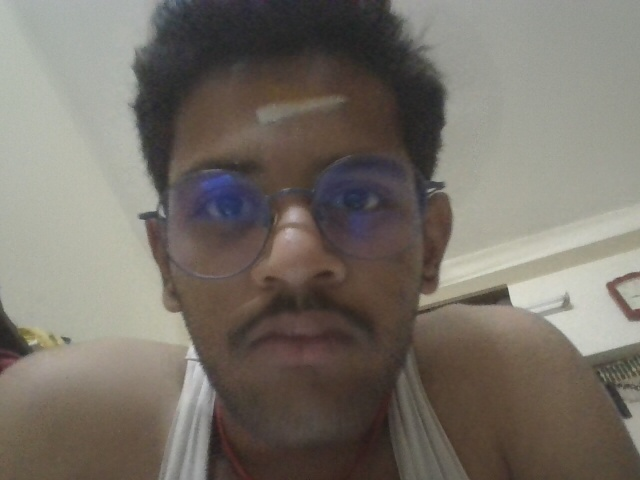real: (122, 65, 469, 412)
